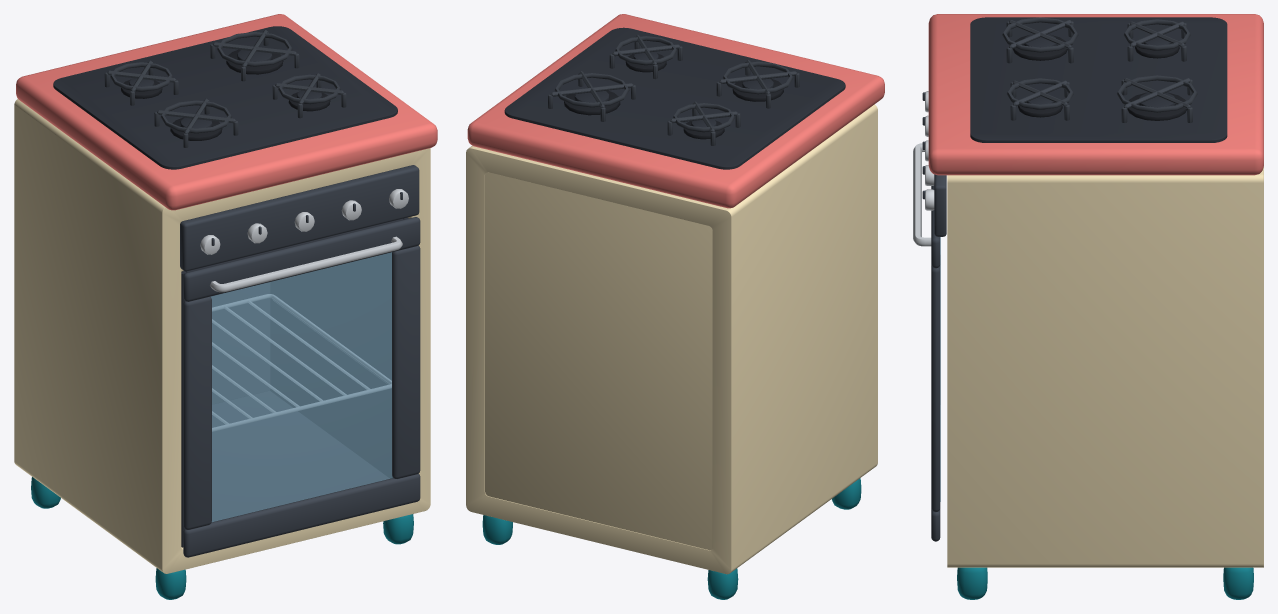
Rendered from fogao_modulo_moderna_coral.glb.
3 renders of one model, left to right at view 1: azimuth 30°, elevation 25°; view 2: azimuth 150°, elevation 25°; view 3: azimuth 270°, elevation 25°, orthographic. The views are drawn at different scales.
Visible parts, largest first — view 1: fogao_modulo_moderna_coral, porta_forno; view 2: fogao_modulo_moderna_coral; view 3: fogao_modulo_moderna_coral, porta_forno.
Part boxes in pixels (x1,y1,x2,y2): fogao_modulo_moderna_coral: (14,14,437,599); porta_forno: (183,217,420,557); fogao_modulo_moderna_coral: (466,14,884,599); fogao_modulo_moderna_coral: (922,14,1263,599); porta_forno: (913,143,940,541).
Size of the model in its own units: 0.598 by 0.939 by 0.627.
2 materials, 1 textured.
